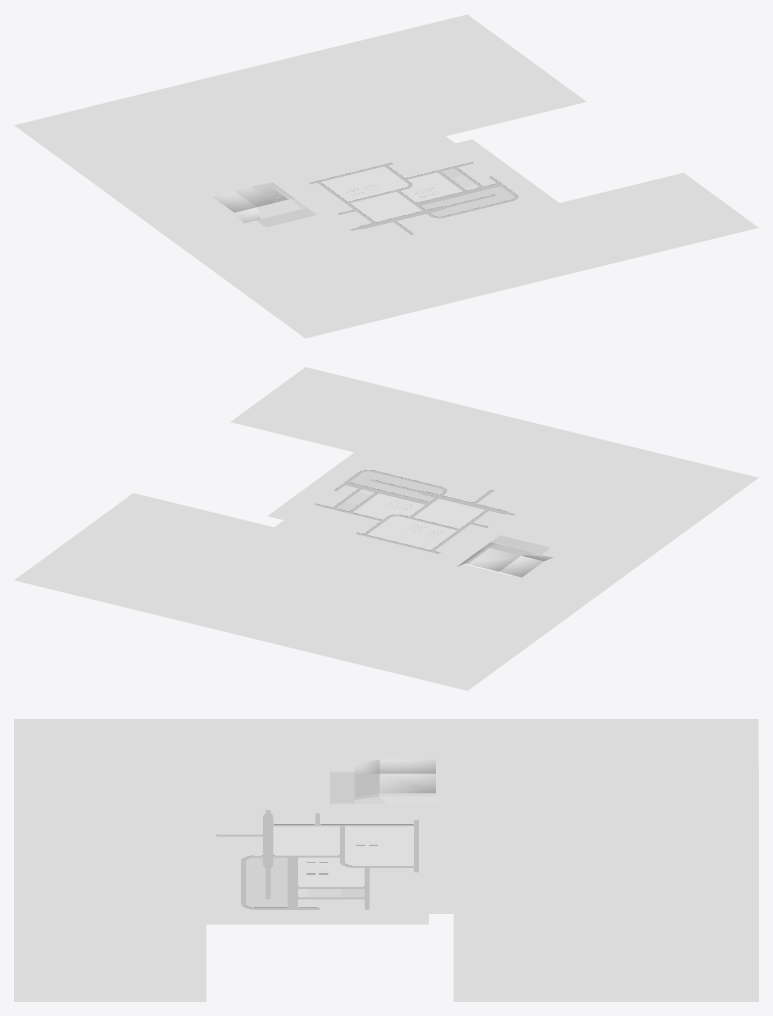
The model's file is temp-world-floor-muted.glb.
3 views of the same model, one above another, from view 1: azimuth 30°, elevation 25°; view 2: azimuth 150°, elevation 25°; view 3: azimuth 270°, elevation 25° (orthographic). The views are drawn at different scales.
Visible parts, largest first — view 1: temp-world-floor.002; view 2: temp-world-floor.002; view 3: temp-world-floor.002.
Part boxes in pixels (bbox=[...]): temp-world-floor.002: bbox=[14, 14, 758, 338]; temp-world-floor.002: bbox=[14, 367, 758, 690]; temp-world-floor.002: bbox=[14, 719, 758, 1001].
Bounding box in the file's own units: 812 × 6.23 × 903.
Materials: 2 (2 with a texture image).
